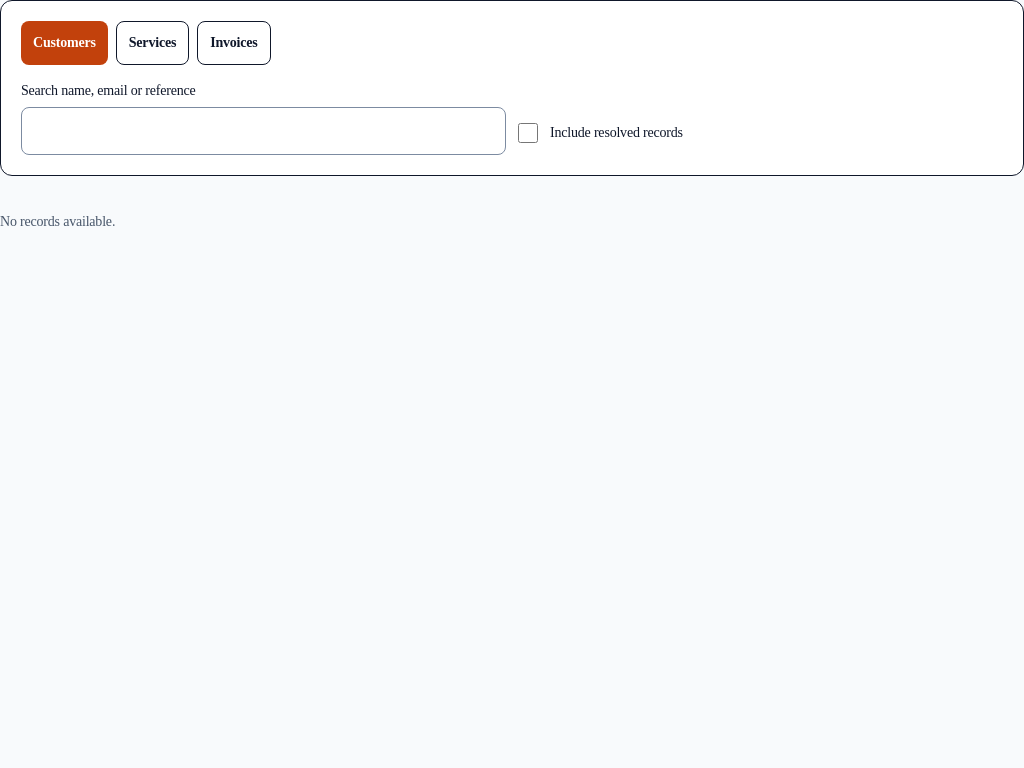
distinguishes pending cancellation links from confirmed replacements in en
The width and height of the screenshot is (1024, 768).
Step 1. Click the button "Invoices" → [234, 43], box [197,21,271,65]
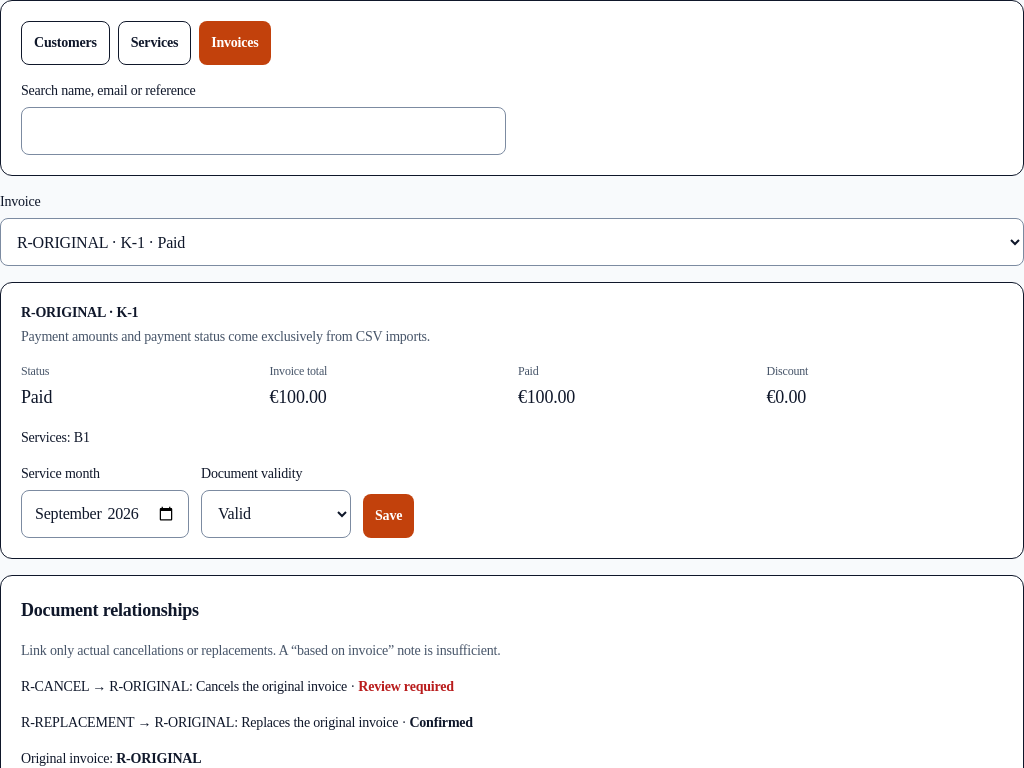
Expected: the heading "Document relationships" is shown, [21,600,199,620]
Expected: the text "Review required" is shown, [358,679,454,694]
Expected: the text "Confirmed" is shown, [409,715,473,730]
